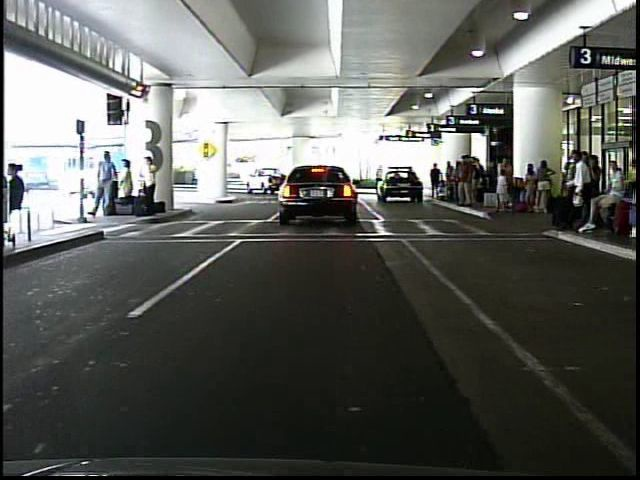person: (90, 149, 122, 222), (141, 153, 159, 217), (119, 157, 138, 211), (429, 162, 443, 201)
